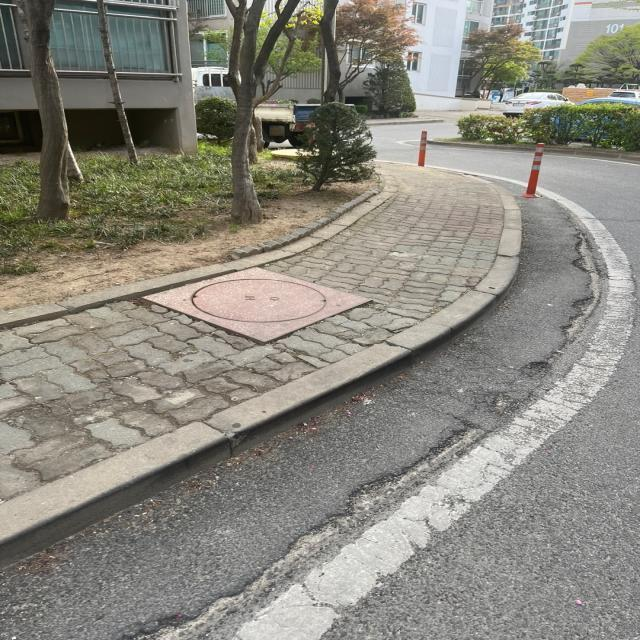manhole: (145, 268, 369, 342)
